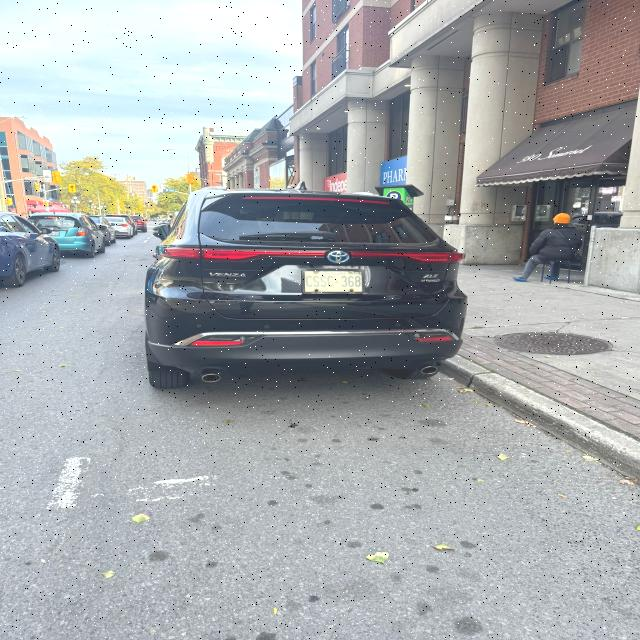plaque: (303, 270, 363, 293), (50, 231, 59, 236)
